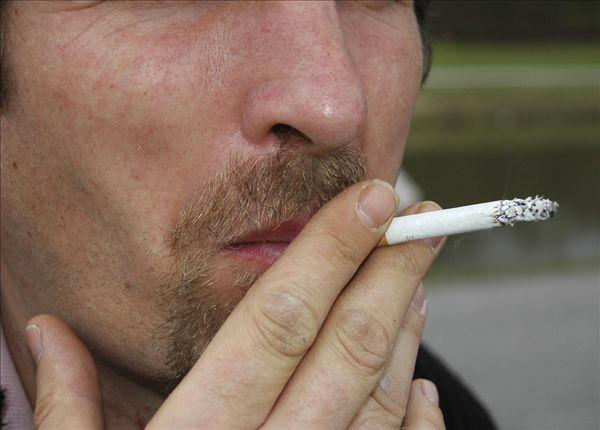smoke: (332, 189, 564, 249)
